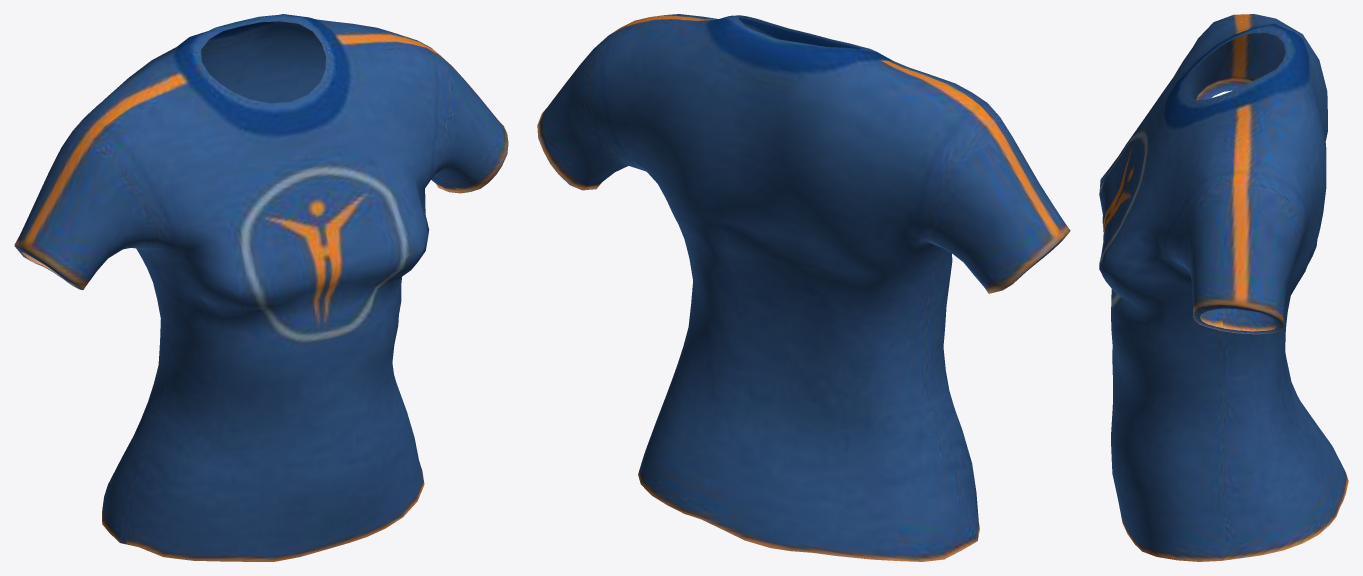
File: tee.glb
The picture shows the model from 3 angles, left to right: view 1: azimuth 30°, elevation 25°; view 2: azimuth 150°, elevation 25°; view 3: azimuth 270°, elevation 25°; orthographic projection. The views are drawn at different scales.
Parts seen in each view (by area): view 1: tee; view 2: tee; view 3: tee.
Boxes of the visible parts, <box> form: tee: <box>14,14,508,561</box>; tee: <box>537,14,1070,561</box>; tee: <box>1099,14,1348,561</box>.
Size of the model in its own units: 0.5364 by 0.5022 by 0.2445.
1 material, 1 textured.
